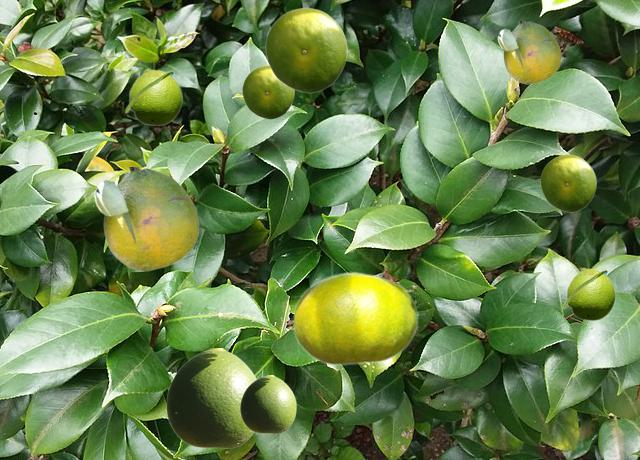dalandan: (292, 271, 417, 365), (93, 167, 198, 270), (166, 348, 256, 447), (265, 7, 346, 92), (497, 21, 560, 83), (124, 68, 182, 125), (540, 154, 595, 211), (240, 375, 295, 432), (562, 267, 615, 320), (242, 65, 293, 118)
